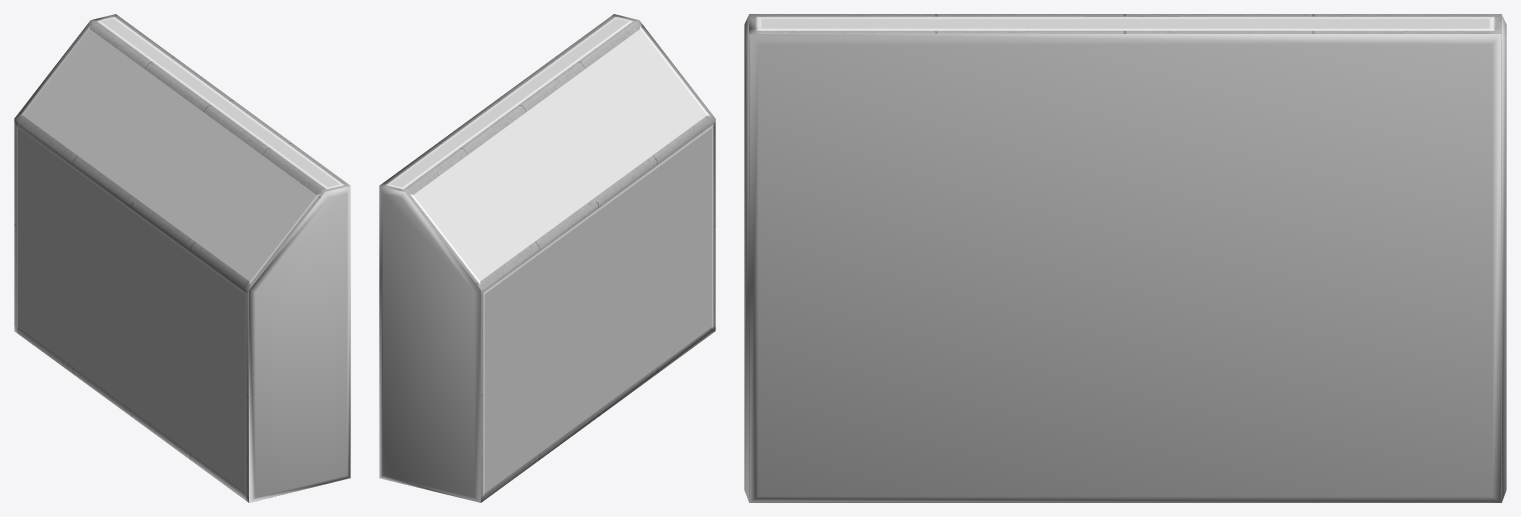
Rendered from s_gm_crawl_06.dae.
3 renders of one model, left to right at view 1: azimuth 30°, elevation 25°; view 2: azimuth 150°, elevation 25°; view 3: azimuth 270°, elevation 25°, orthographic. The views are drawn at different scales.
Parts seen in each view (by area): view 1: crawl_06_a100, Colmesh_crawl_06-1; view 2: crawl_06_a100, Colmesh_crawl_06-1; view 3: Colmesh_crawl_06-1, crawl_06_a100.
Boxes of the visible parts, x1=… form: crawl_06_a100: x1=14, y1=14, x2=350, y2=502; Colmesh_crawl_06-1: x1=249, y1=186, x2=350, y2=502; crawl_06_a100: x1=379, y1=14, x2=715, y2=502; Colmesh_crawl_06-1: x1=379, y1=186, x2=480, y2=502; Colmesh_crawl_06-1: x1=744, y1=15, x2=1506, y2=502; crawl_06_a100: x1=749, y1=14, x2=1501, y2=502.
Size of the model in its own units: 2.05 by 8.1 by 5.5.
